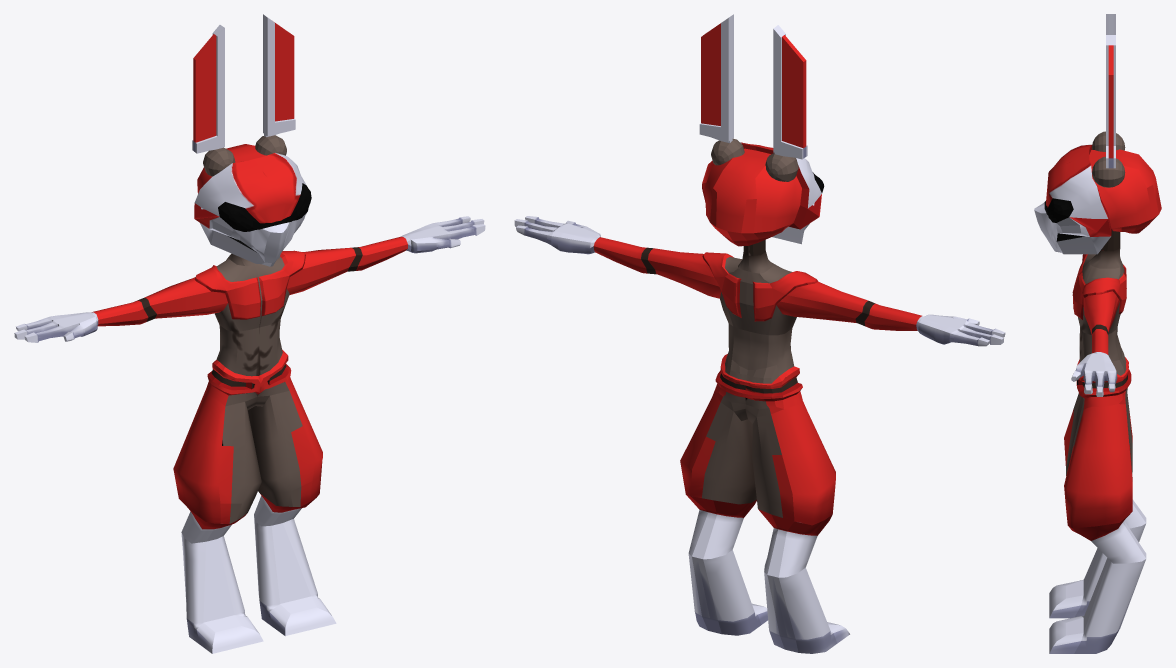
The model's file is Character02.fbx.
3 views of the same model, side by side, from view 1: azimuth 30°, elevation 25°; view 2: azimuth 150°, elevation 25°; view 3: azimuth 270°, elevation 25° (orthographic). The views are drawn at different scales.
Visible parts, largest first — view 1: pCube16, polySurface3, polySurface2; view 2: pCube16, polySurface3, polySurface2; view 3: pCube16, polySurface2, polySurface3.
Part boxes in pixels (x1,y1,x2,y2): pCube16: [14, 144, 485, 653]; polySurface3: [192, 25, 235, 176]; polySurface2: [255, 14, 295, 155]; pCube16: [514, 142, 1005, 653]; polySurface3: [765, 25, 807, 181]; polySurface2: [699, 14, 744, 165]; pCube16: [1034, 144, 1161, 653]; polySurface2: [1092, 35, 1125, 187]; polySurface3: [1092, 14, 1125, 151].
Bounding box in the file's own units: 11.57 × 14.07 × 2.72.
Materials: 1 (1 with a texture image).
